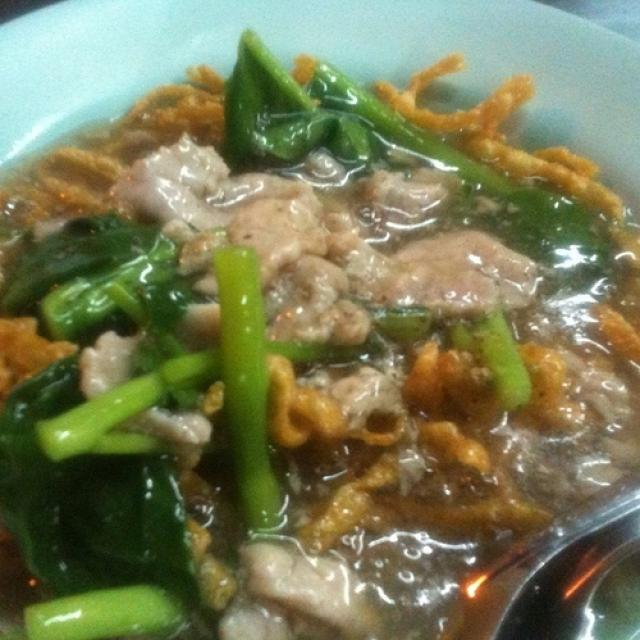面条主食: (18, 60, 608, 618)
